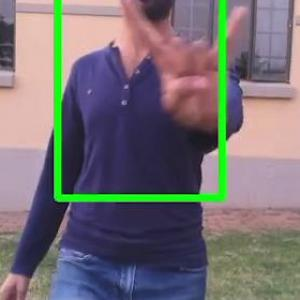takeoff-hand: (118, 0, 261, 162)
